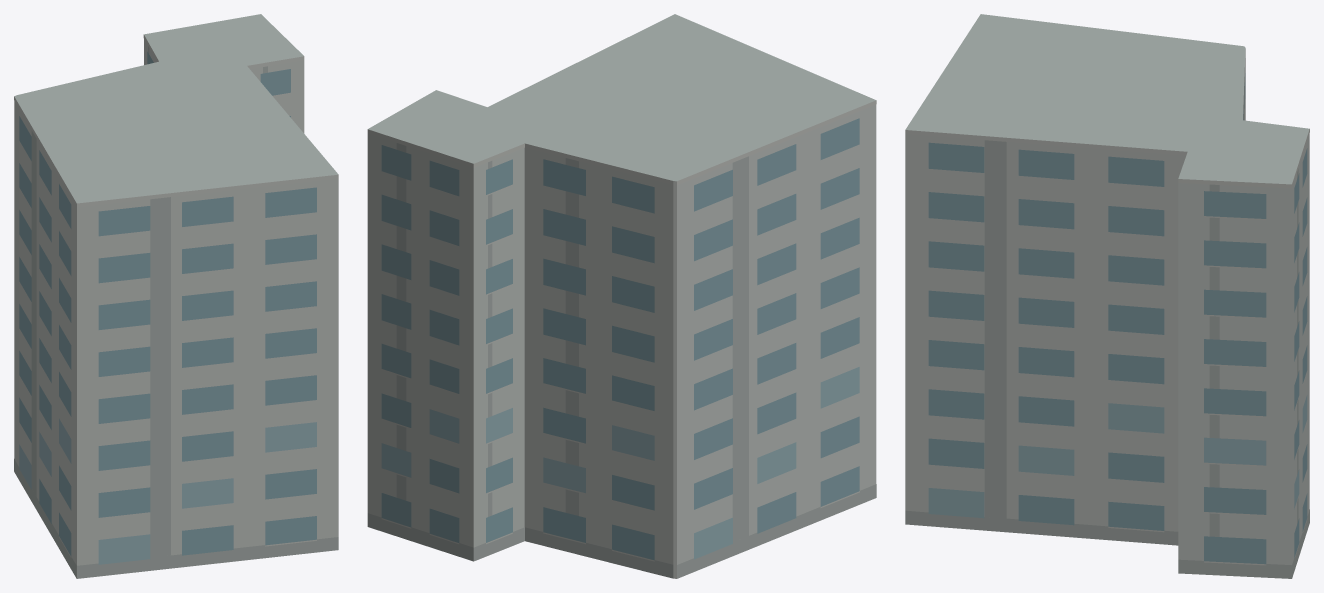
The model's file is survey-upis-32880116.glb.
3 renders of one model, left to right at view 1: azimuth 30°, elevation 25°; view 2: azimuth 150°, elevation 25°; view 3: azimuth 270°, elevation 25°, orthographic. The views are drawn at different scales.
Visible parts, largest first — view 1: survey-upis-32880116.tmp; view 2: survey-upis-32880116.tmp; view 3: survey-upis-32880116.tmp.
Part boxes in pixels (x1,y1,x2,y2): survey-upis-32880116.tmp: (14, 14, 338, 578); survey-upis-32880116.tmp: (367, 14, 876, 578); survey-upis-32880116.tmp: (905, 14, 1309, 578).
Size of the model in its own units: 21.69 by 23.4 by 21.76.
